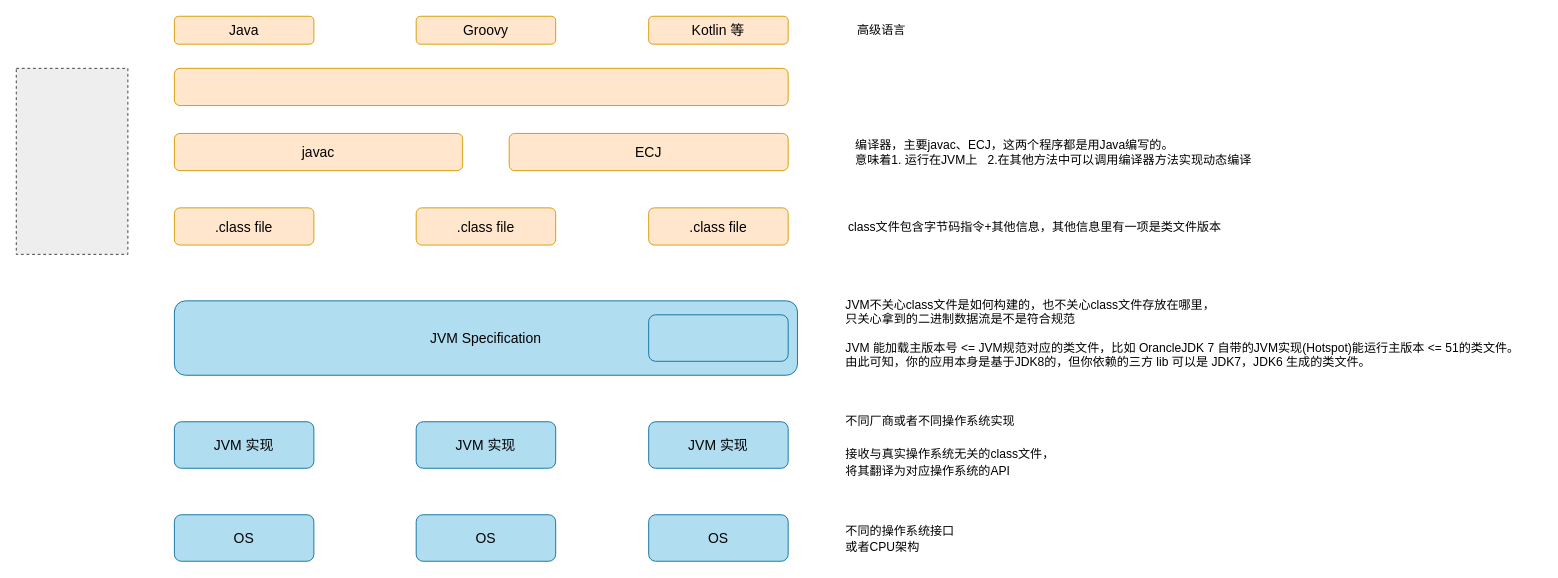
The diagram is 1558 pixels wide and 578 high, and some of its shapes have lost their labels. Here are the shapes that lost their labels. From the top down, the centre of each, then its label:
At pixel 480 86: "源码文件".
At pixel 71 160: "构建工具： Maven、Gradle".
At pixel 718 337: "类文件格式规范（The Class File Format）".
